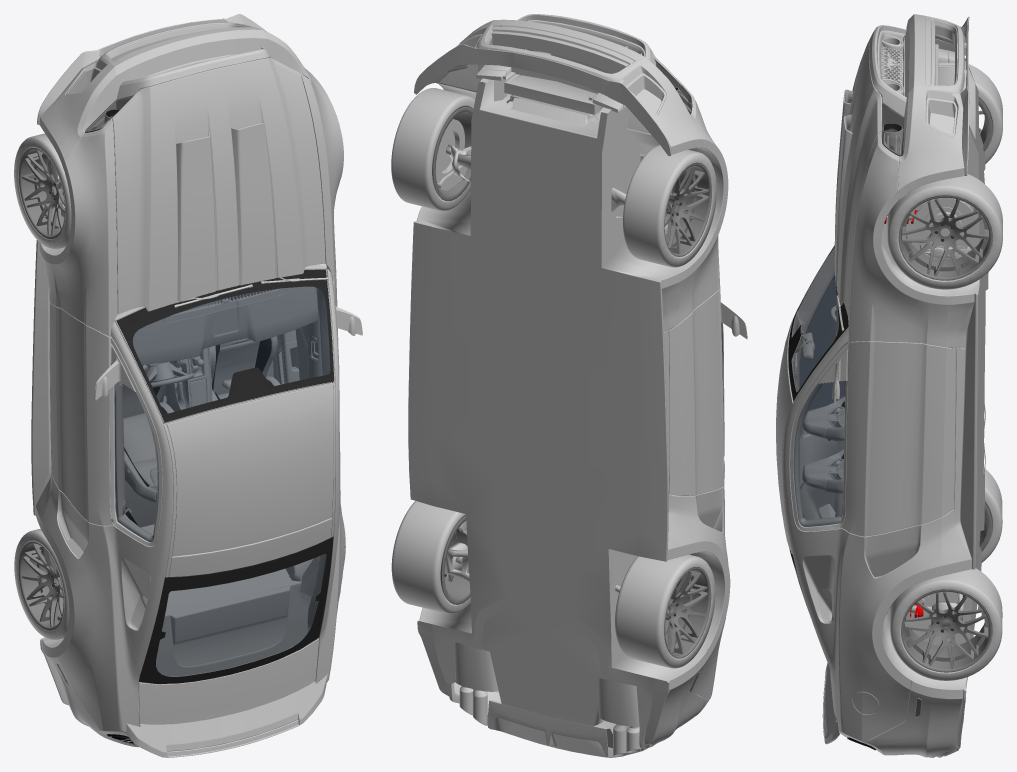
File: mustang_GT.obj
The picture shows the model from 3 angles, left to right: view 1: azimuth 30°, elevation 25°; view 2: azimuth 150°, elevation 25°; view 3: azimuth 270°, elevation 25°; orthographic projection. The views are drawn at different scales.
Parts seen in each view (by area): view 1: chassis, bonnet_ok, wind_screen_ok, interior, door_lf_ok, bump_front_ok, boot_ok, wing_lf_ok, seats, wheel_lf_pivot, wheel_lb_pivot, wing_rf_ok (+3 smaller); view 2: chassis, bump_front_ok, door_lf_ok, wheel_lb_pivot, wheel_lf_pivot, bump_rear_ok, wheel_rf, wheel_rb, wing_lf_ok, wheel; view 3: chassis, door_rf_ok, bump_front_ok, wing_rf_ok, wheel_rf, wheel_rb, bonnet_ok, bump_rear_ok, interior, wind_screen_ok, seats, door_lf_ok (+6 smaller).
Boxes of the visible parts, box(x1,y1,x2,y2) form: chassis: box(31, 57, 345, 744); bonnet_ok: box(112, 57, 325, 313); wind_screen_ok: box(133, 287, 330, 676); interior: box(111, 286, 330, 676); door_lf_ok: box(49, 303, 162, 546); bump_front_ok: box(37, 14, 328, 172); boot_ok: box(126, 639, 327, 757); wing_lf_ok: box(39, 118, 117, 336); seats: box(122, 336, 280, 525); wheel_lf_pivot: box(14, 133, 71, 249); wheel_lb_pivot: box(14, 528, 69, 639); wing_rf_ok: box(299, 72, 343, 281); chassis: box(408, 46, 730, 757); bump_front_ok: box(414, 14, 713, 156); door_lf_ok: box(668, 288, 747, 495); wheel_lb_pivot: box(615, 554, 715, 668); wheel_lf_pivot: box(623, 145, 716, 267); bump_rear_ok: box(417, 608, 708, 757); wheel_rf: box(391, 88, 474, 210); wheel_rb: box(391, 501, 470, 613); wing_lf_ok: box(660, 86, 728, 331); wheel: box(435, 119, 464, 182); chassis: box(776, 44, 988, 756); door_rf_ok: box(790, 341, 956, 536); bump_front_ok: box(869, 14, 969, 200); wing_rf_ok: box(848, 131, 974, 348); wheel_rf: box(887, 174, 1002, 289); wheel_rb: box(890, 568, 1002, 680); bonnet_ok: box(834, 35, 881, 315); bump_rear_ok: box(866, 680, 966, 757); interior: box(792, 248, 844, 519); wind_screen_ok: box(792, 247, 838, 608); seats: box(802, 396, 845, 493); door_lf_ok: box(800, 276, 845, 432).
Size of the model in its own units: 44.93 by 109 by 32.39.
